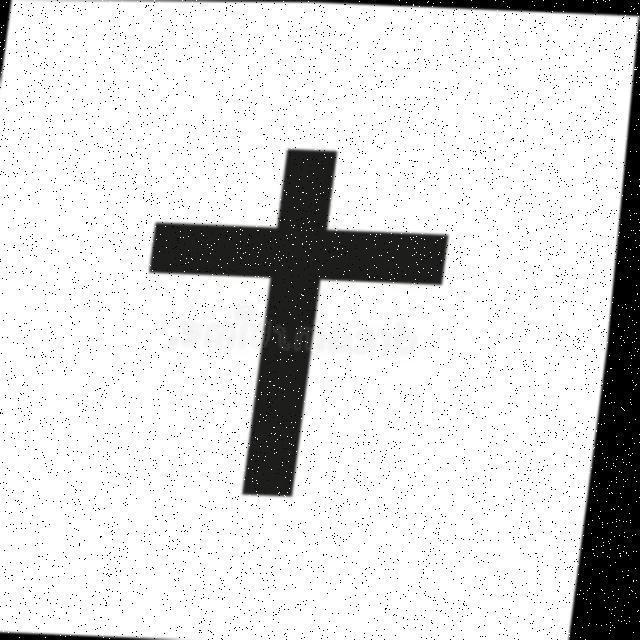cross: (122, 120, 476, 382)
